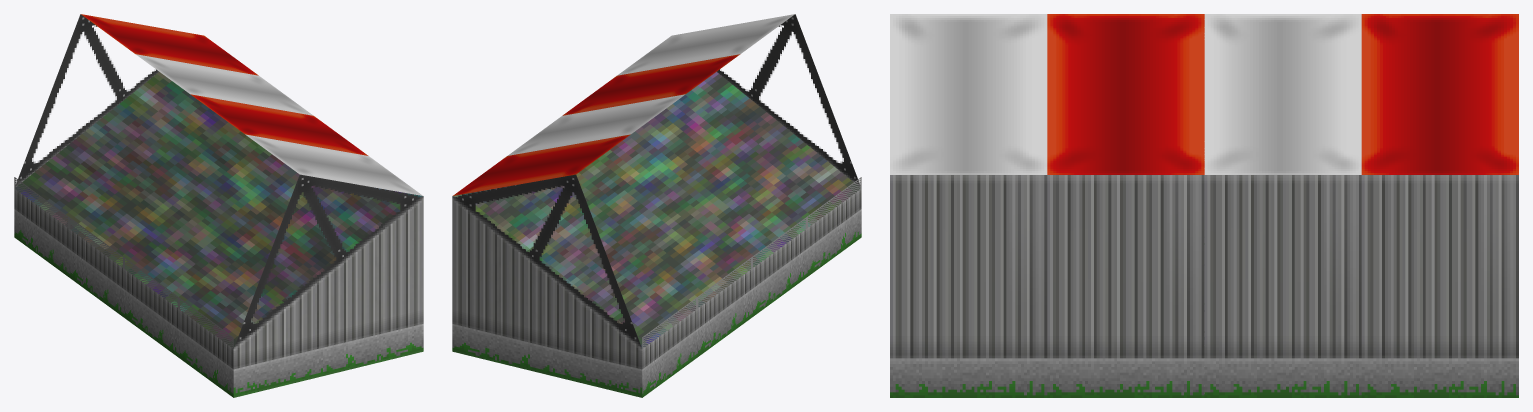
File: Stand.glb
3 renders of one model, left to right at view 1: azimuth 30°, elevation 25°; view 2: azimuth 150°, elevation 25°; view 3: azimuth 270°, elevation 25°, orthographic. The views are drawn at different scales.
Parts seen in each view (by area): view 1: Stand; view 2: Stand; view 3: Stand.
Part boxes in pixels (box(x1,y1,x2,y2)): Stand: box(14, 14, 423, 397); Stand: box(452, 14, 861, 397); Stand: box(890, 14, 1518, 397).
Size of the model in its own units: 0.5 by 0.5216 by 1.
1 material, 1 textured.
